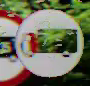Heavy Vehicles: (10, 4, 86, 79)
